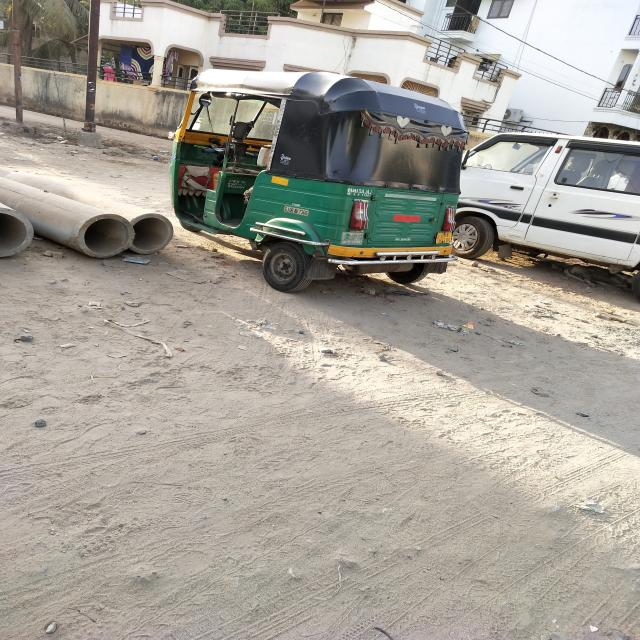Autorickshaw: (174, 66, 480, 306)
Car: (463, 112, 640, 290)
